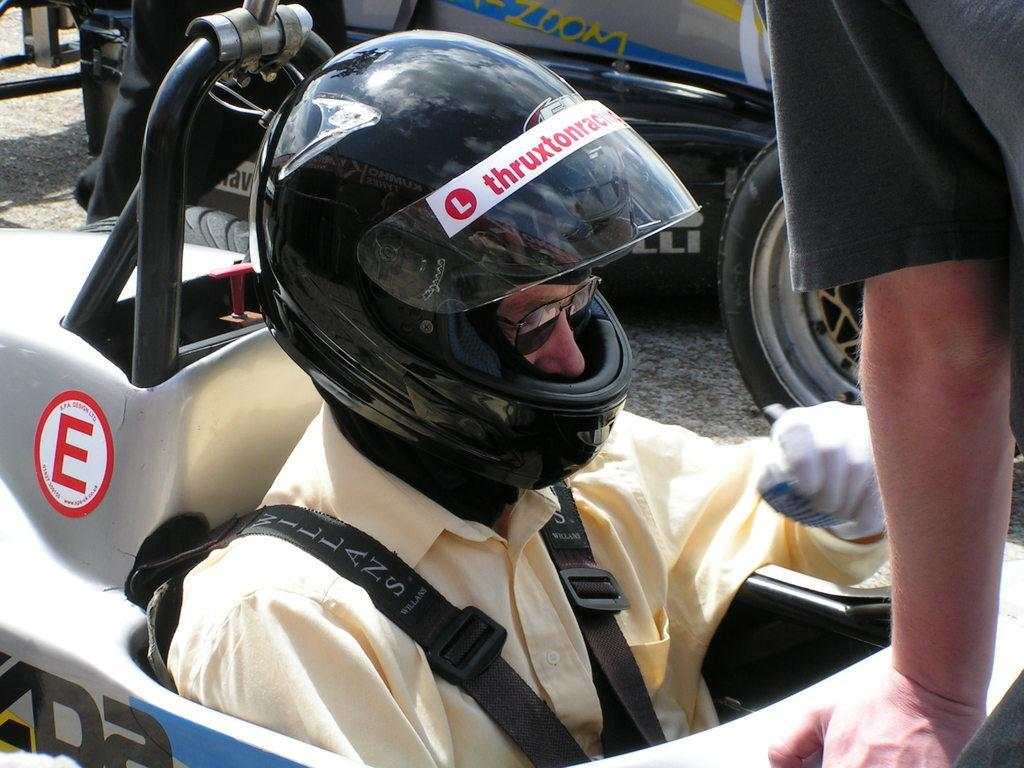helmet: (247, 27, 705, 494)
